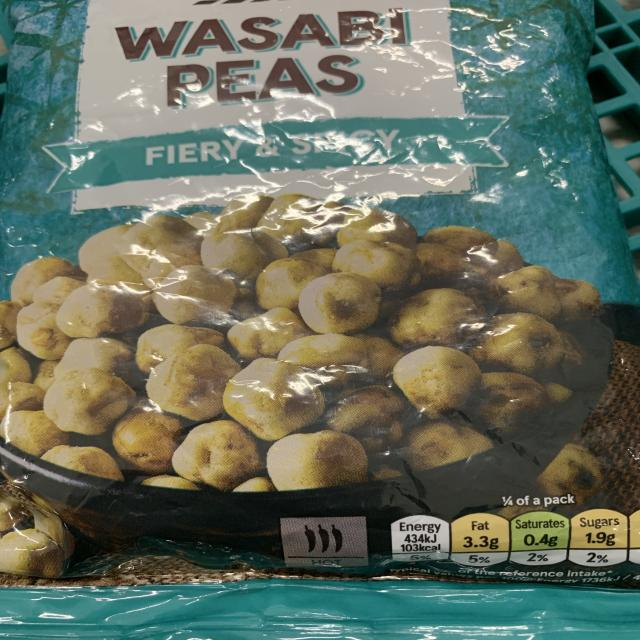object_name: (8, 0, 640, 640)
